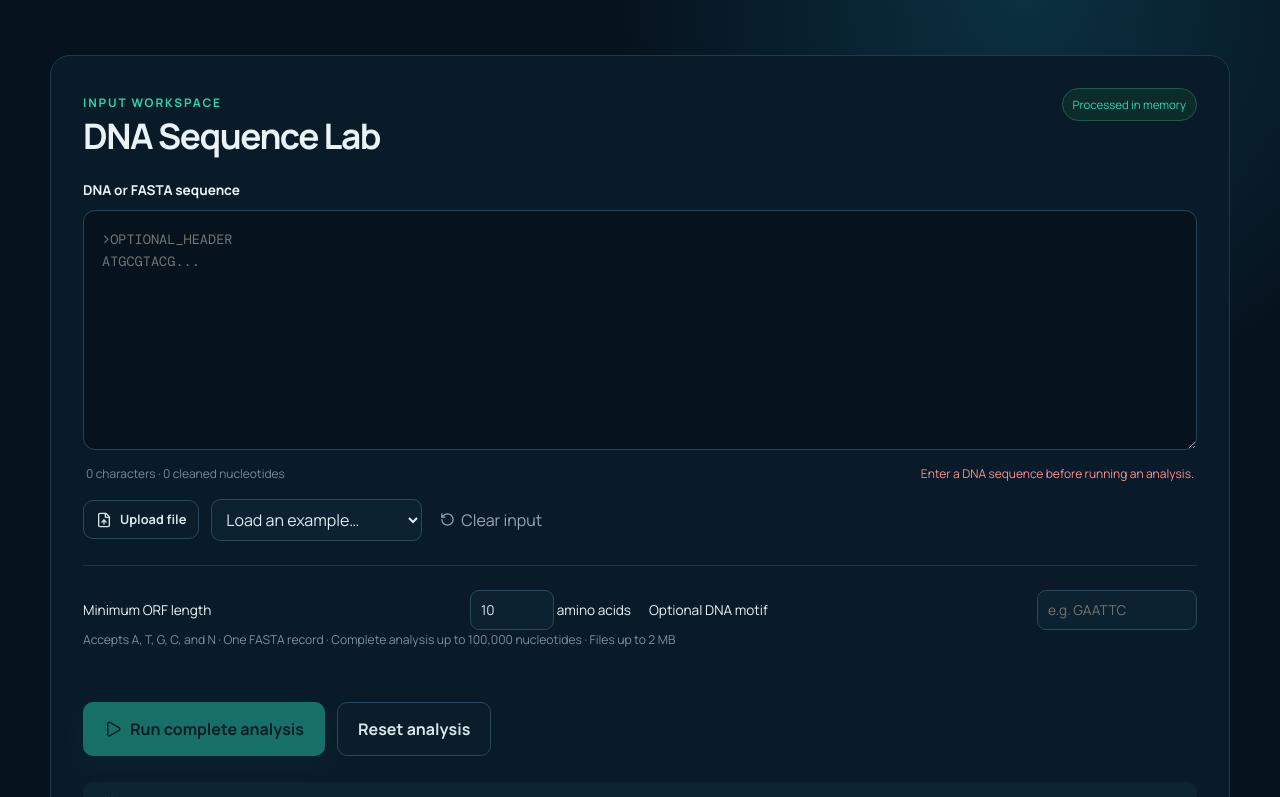
Test: disables analysis for an invalid motif
Type "ATGC" into the text box labelled "DNA or FASTA sequence" at (640, 330), box [83, 210, 1197, 450]
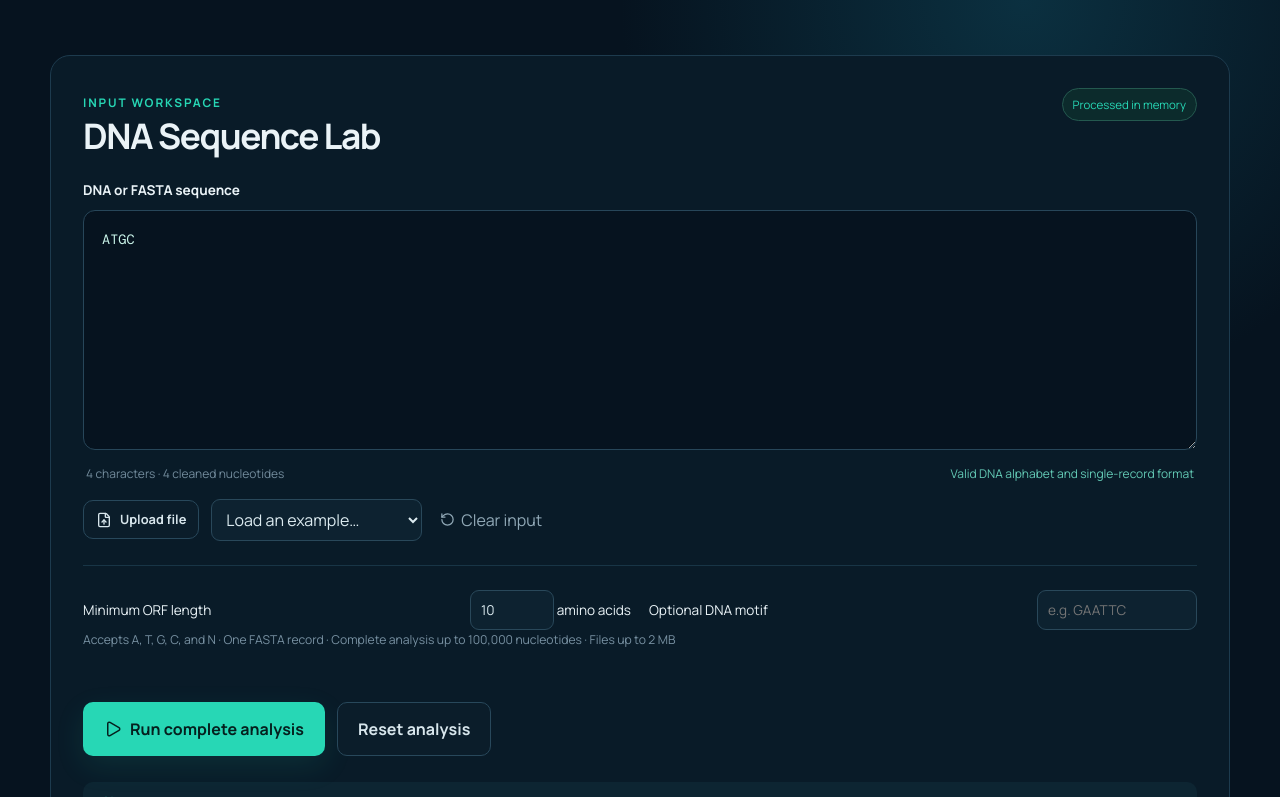
Type "ATN" into the field labelled "Optional DNA motif" at (1117, 610), box [1037, 590, 1197, 630]
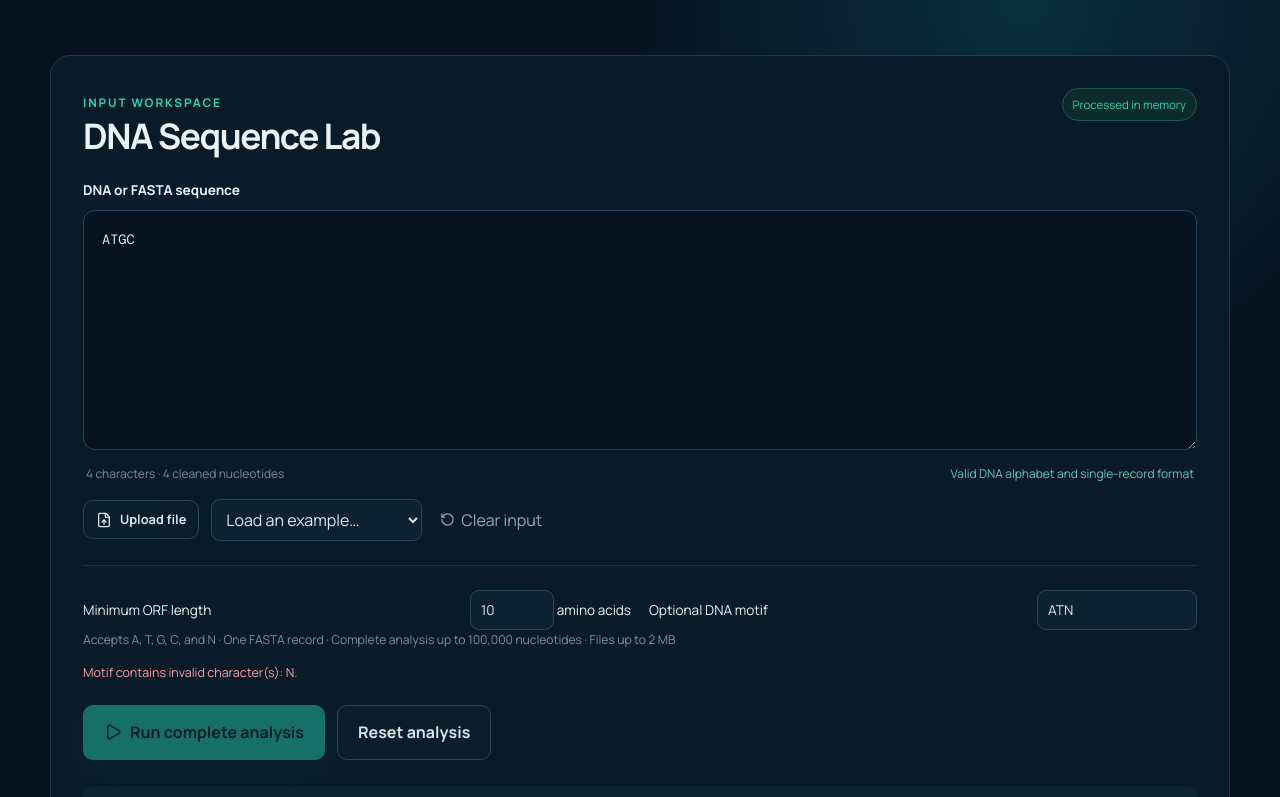
Check: the button "Run complete analysis" is disabled, box [83, 705, 325, 760]
